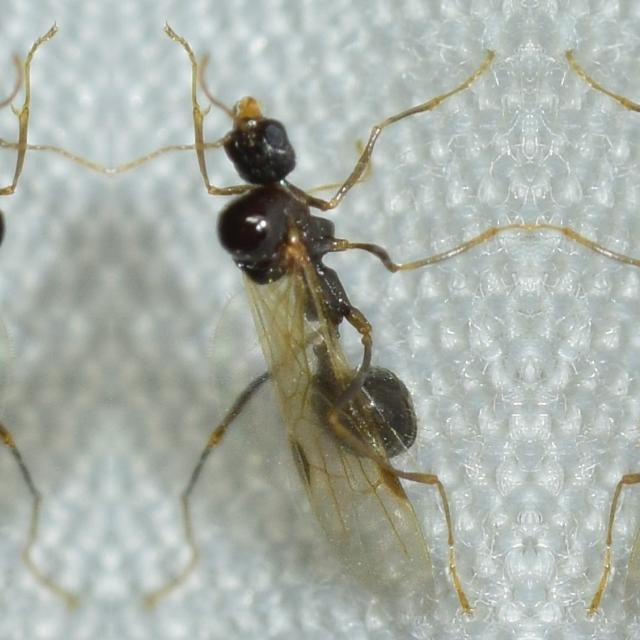Apheanogaster: (170, 24, 462, 570)
